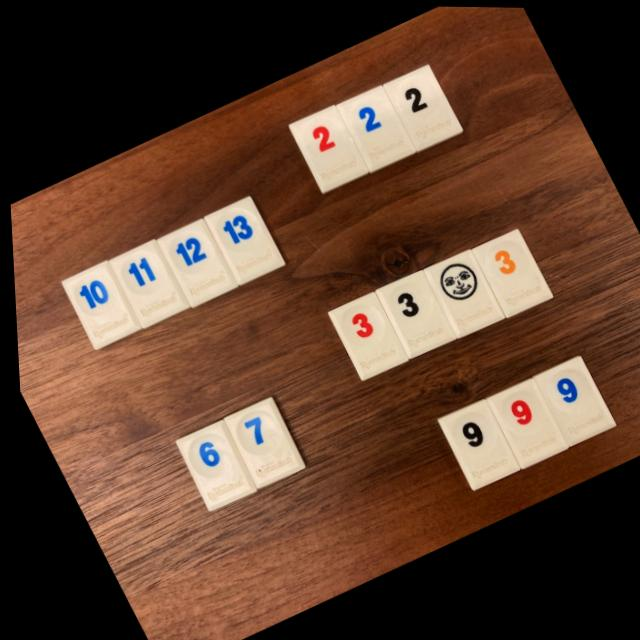black_2: (383, 64, 461, 150)
black_3: (373, 270, 453, 357)
black_9: (434, 398, 515, 489)
blue_10: (59, 260, 137, 348)
blue_11: (107, 239, 186, 327)
blue_12: (155, 219, 234, 307)
blue_13: (202, 195, 282, 285)
blue_2: (336, 85, 414, 172)
blue_6: (171, 420, 251, 510)
blue_7: (219, 397, 300, 487)
blue_9: (531, 354, 612, 444)
joker: (421, 249, 501, 336)
orange_3: (470, 228, 549, 316)
red_2: (288, 104, 367, 191)
red_3: (325, 291, 404, 379)
red_9: (482, 377, 563, 467)
